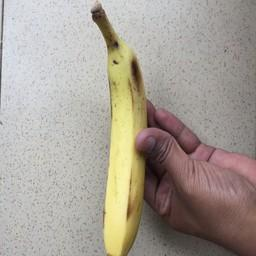Banana Ripe: (73, 2, 167, 256)
